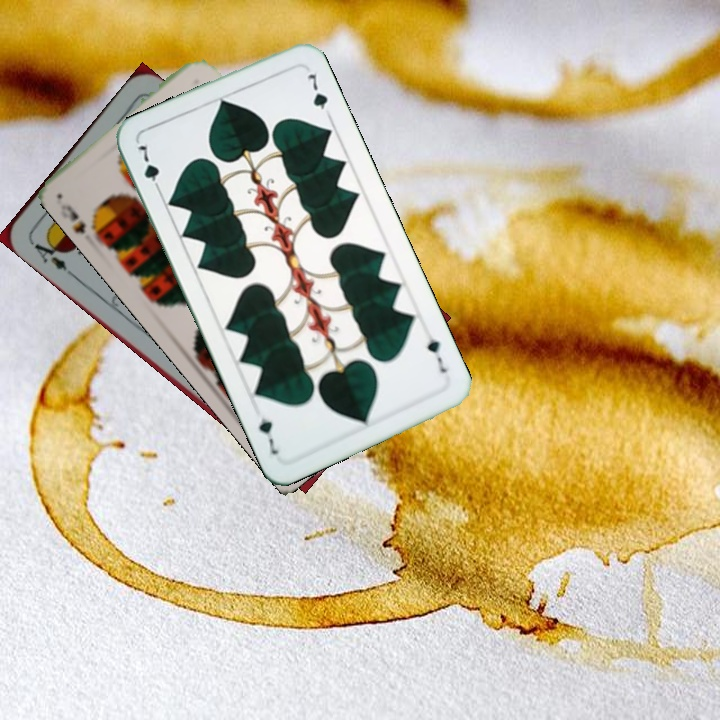EA: (26, 233, 76, 279)
G7: (133, 139, 164, 196), (423, 334, 450, 376)
S9: (56, 200, 105, 243)
